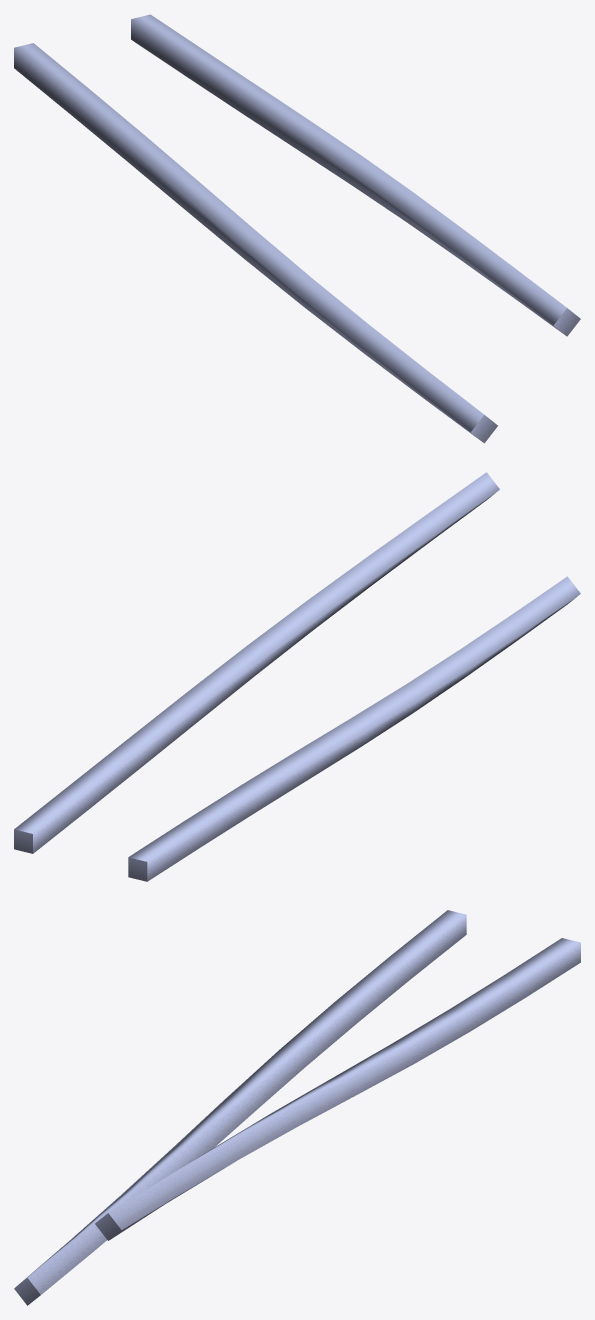
File: railroad-rail-straight-skew-right.glb
3 renders of one model, top to bottom at view 1: azimuth 30°, elevation 25°; view 2: azimuth 150°, elevation 25°; view 3: azimuth 330°, elevation 25°, orthographic. The views are drawn at different scales.
Parts seen in each view (by area): view 1: railroad-rail-straight-skew-right; view 2: railroad-rail-straight-skew-right; view 3: railroad-rail-straight-skew-right.
Boxes of the visible parts, bbox=[...] form: railroad-rail-straight-skew-right: bbox=[14, 14, 580, 443]; railroad-rail-straight-skew-right: bbox=[14, 472, 580, 881]; railroad-rail-straight-skew-right: bbox=[14, 910, 580, 1305].
Size of the model in its own units: 0.7139 by 0.5654 by 4.
1 material, 1 textured.
